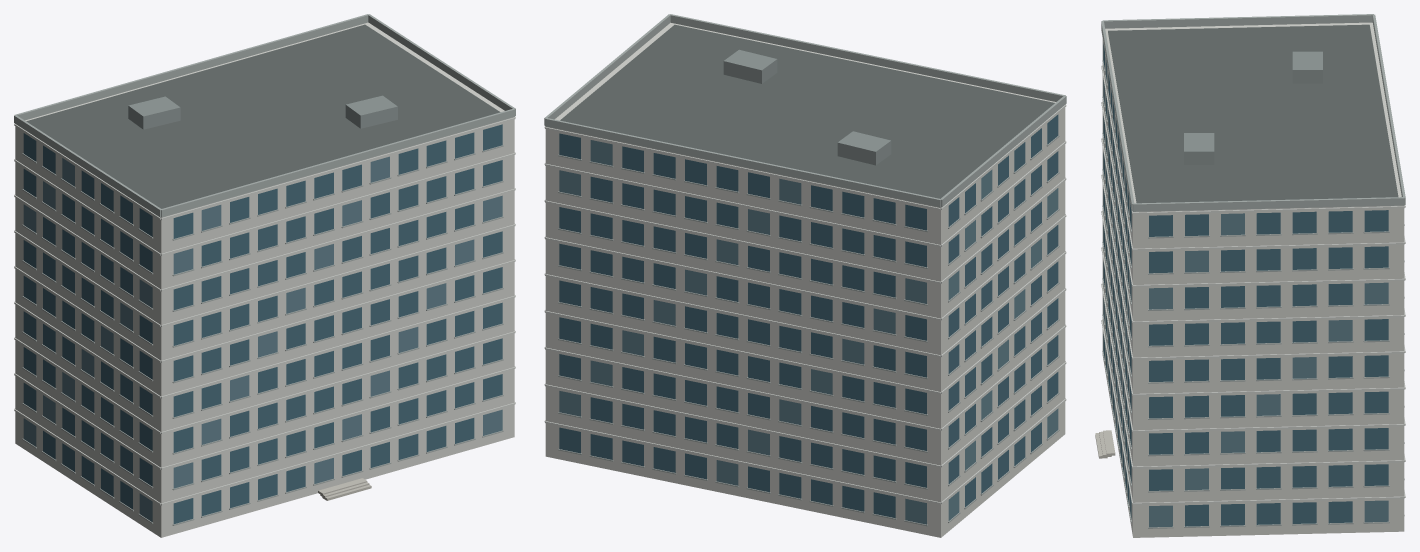
Rendered from 软件园与科创楼-002.glb.
The picture shows the model from 3 angles, left to right: view 1: azimuth 30°, elevation 25°; view 2: azimuth 150°, elevation 25°; view 3: azimuth 270°, elevation 25°; orthographic projection. The views are drawn at different scales.
Parts seen in each view (by area): view 1: 软件园与科创楼-002; view 2: 软件园与科创楼-002; view 3: 软件园与科创楼-002.
Part boxes in pixels (x1,y1,x2,y2): 软件园与科创楼-002: [14, 14, 515, 537]; 软件园与科创楼-002: [544, 14, 1066, 537]; 软件园与科创楼-002: [1095, 14, 1405, 537].
Bounding box in the file's own units: 41.26 × 34.42 × 28.43.
